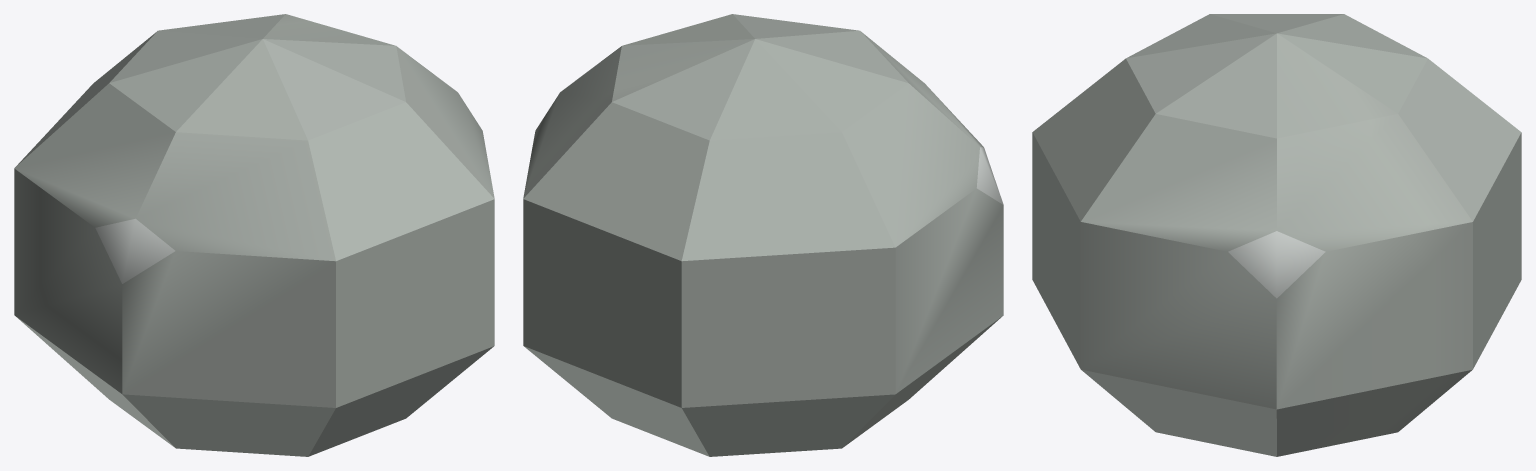
3 renders of one model, left to right at view 1: azimuth 30°, elevation 25°; view 2: azimuth 150°, elevation 25°; view 3: azimuth 270°, elevation 25°, orthographic.
Visible parts, largest first — view 1: Sphere_2; view 2: Sphere_2; view 3: Sphere_2.
Part boxes in pixels (<box>): Sphere_2: <box>14,14,494,456</box>; Sphere_2: <box>523,14,1003,456</box>; Sphere_2: <box>1032,14,1521,456</box>.
Bounding box in the file's own units: 0.6962 × 0.5768 × 0.714.
Materials: 1 (1 with a texture image).
